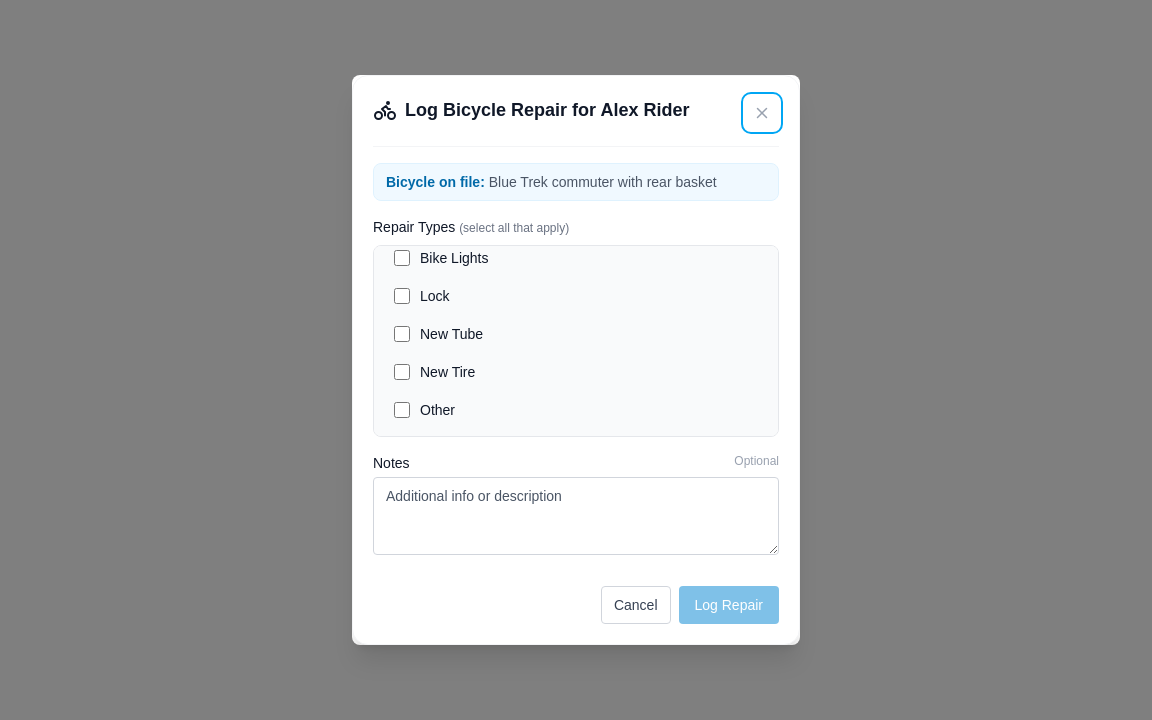
Test: BicycleRepairBooking › validation › requires notes when "Other" is selected
This screenshot has width=1152, height=720.
(page scrolled)
Click the checkbox labelled "Other": x=402, y=410 [394,402,410,418]
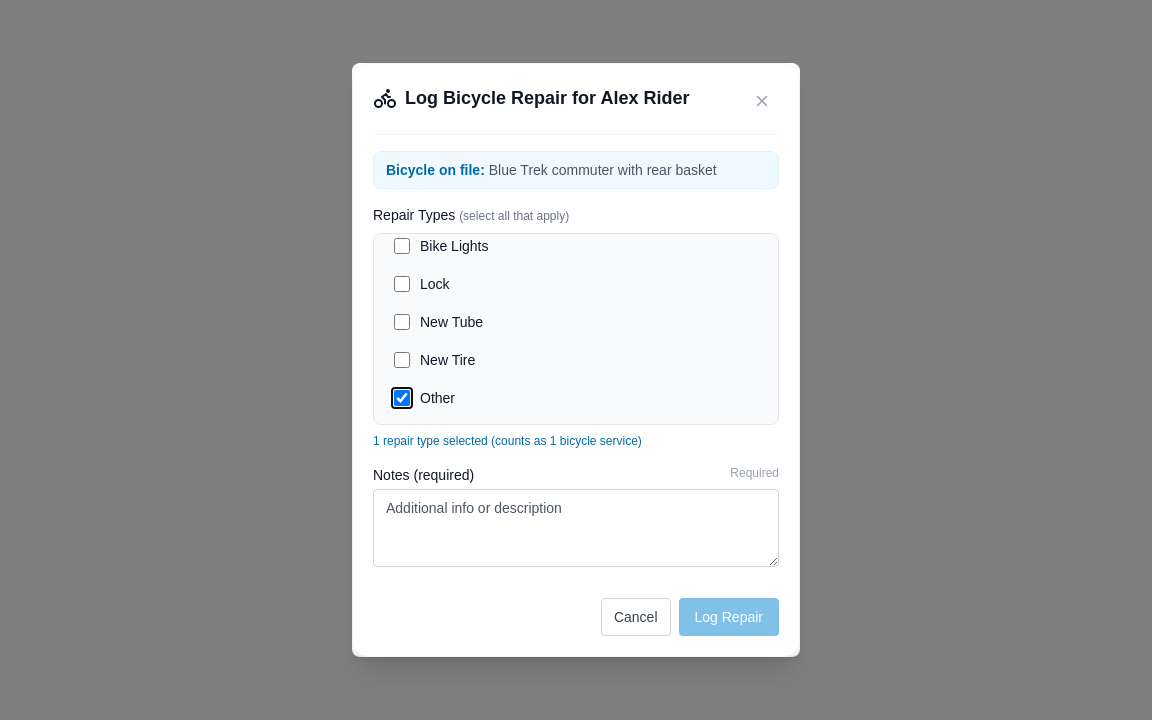
Expected: the button "Log Repair" is disabled, [678,598,779,636]
// Add notes to enable submission
In the text box named "notes": x=576, y=528 [373,489,779,567], type "Custom repair description"
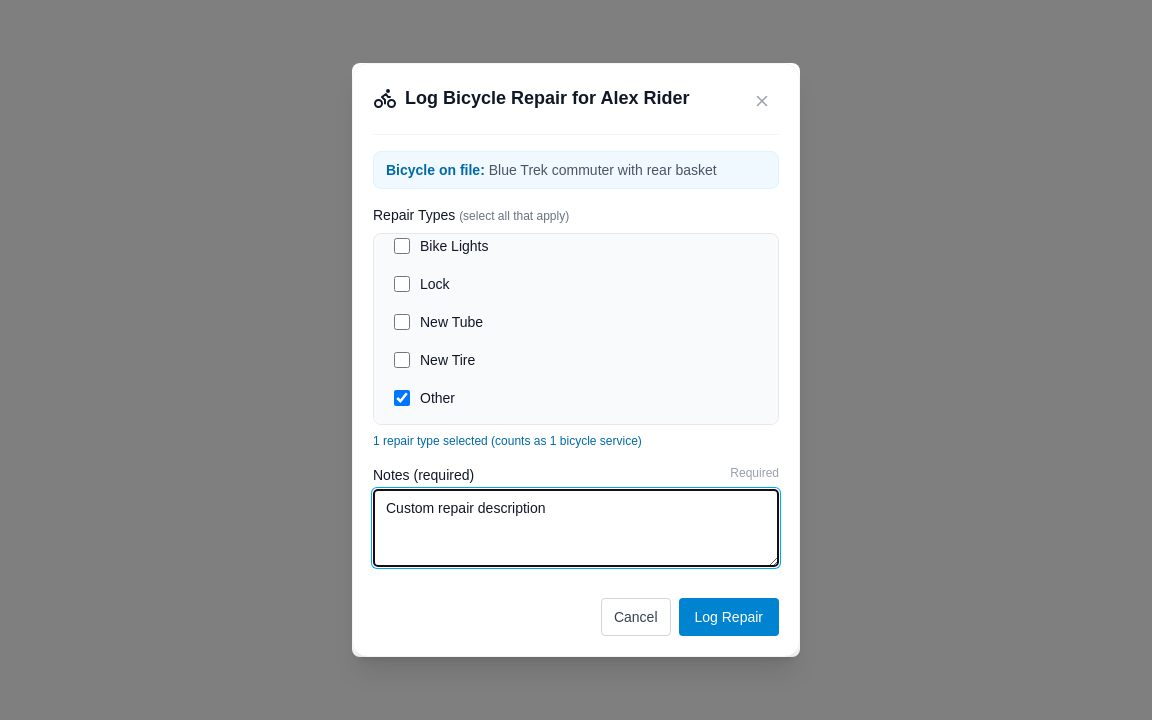
Expected: the button "Log Repair" is enabled, [678,598,779,636]
